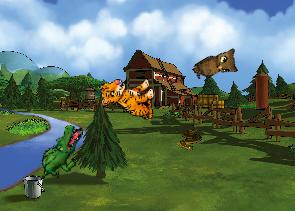crocodile: (38, 120, 84, 185)
owl: (190, 43, 244, 91)
tiger: (98, 73, 158, 125)
